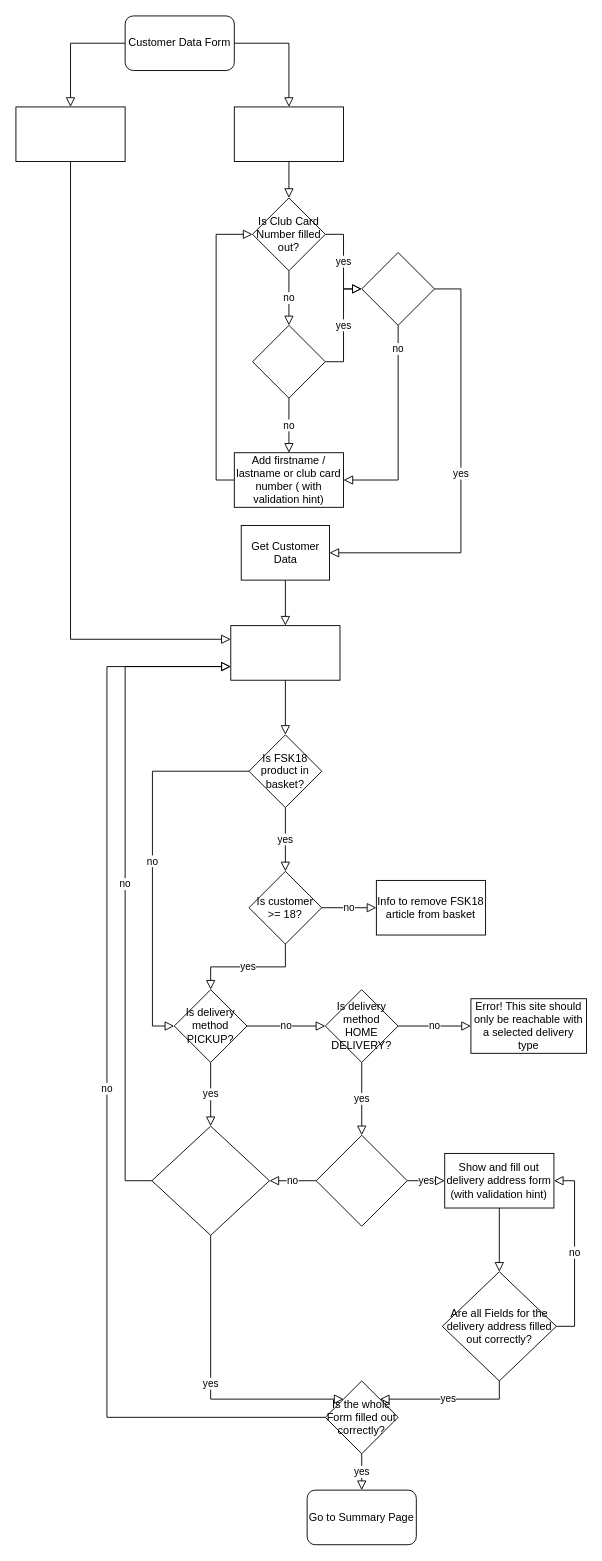
Image size: 602x1561. Some labels were removed from this diagram. The shapes that lost their labels are listed below. From the top down, each one's centre as x and y in pixels, then its label:
At point (70, 134): "Checkout as new Customer".
At point (288, 134): "Search for existing customer".
At point (398, 288): "Form Fields pass validation?".
At point (288, 361): "Are first- and lastname filled?".
At point (285, 652): "Fill billing address form data".
At point (210, 1180): "Are all fields for the billing address filled out correctly?".
At point (361, 1180): "Is separate Delivery Address selected?".
